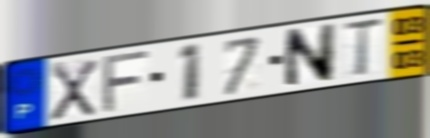1: (176, 41, 204, 104)
7: (223, 33, 263, 97)
F: (100, 47, 155, 116)
N: (282, 21, 338, 91)
T: (340, 15, 386, 79)
X: (48, 57, 101, 123)
